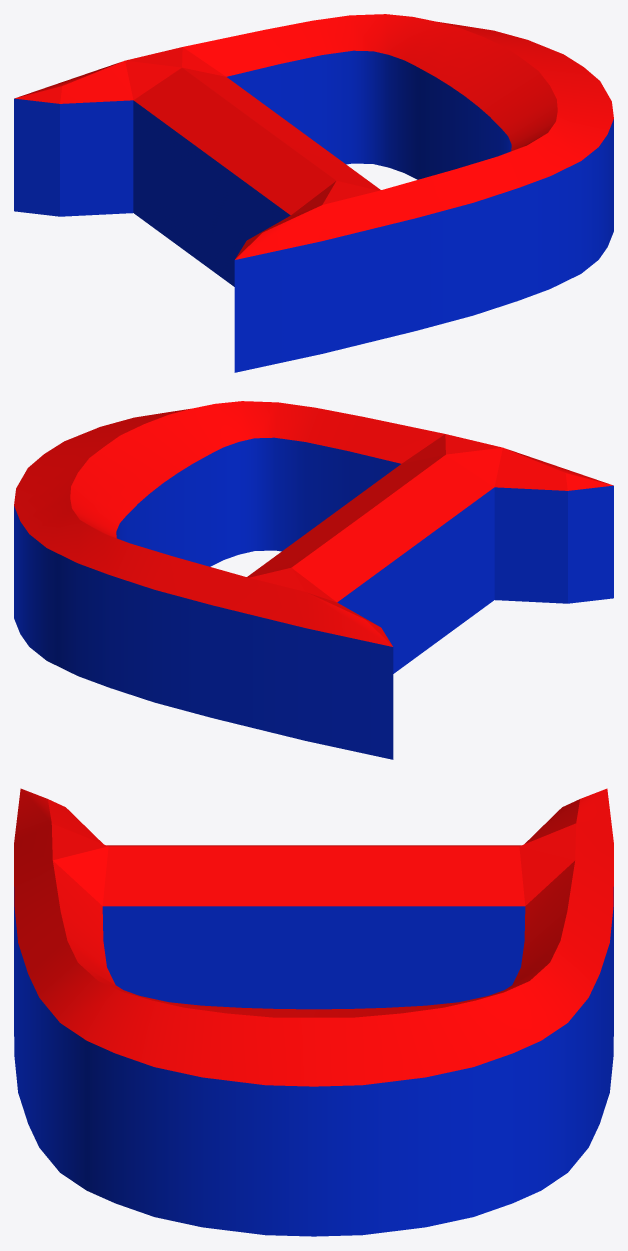
File: DavigoD.FBX
3 views of the same model, one above another, from view 1: azimuth 30°, elevation 25°; view 2: azimuth 150°, elevation 25°; view 3: azimuth 270°, elevation 25° (orthographic). The views are drawn at different scales.
Visible parts, largest first — view 1: DavigoD; view 2: DavigoD; view 3: DavigoD.
Boxes of the visible parts, box(x1,y1,x2,y2) form: DavigoD: box(14, 14, 613, 372); DavigoD: box(14, 401, 613, 759); DavigoD: box(14, 788, 613, 1236).
Bounding box in the file's own units: 90.42 × 25.39 × 76.89.
